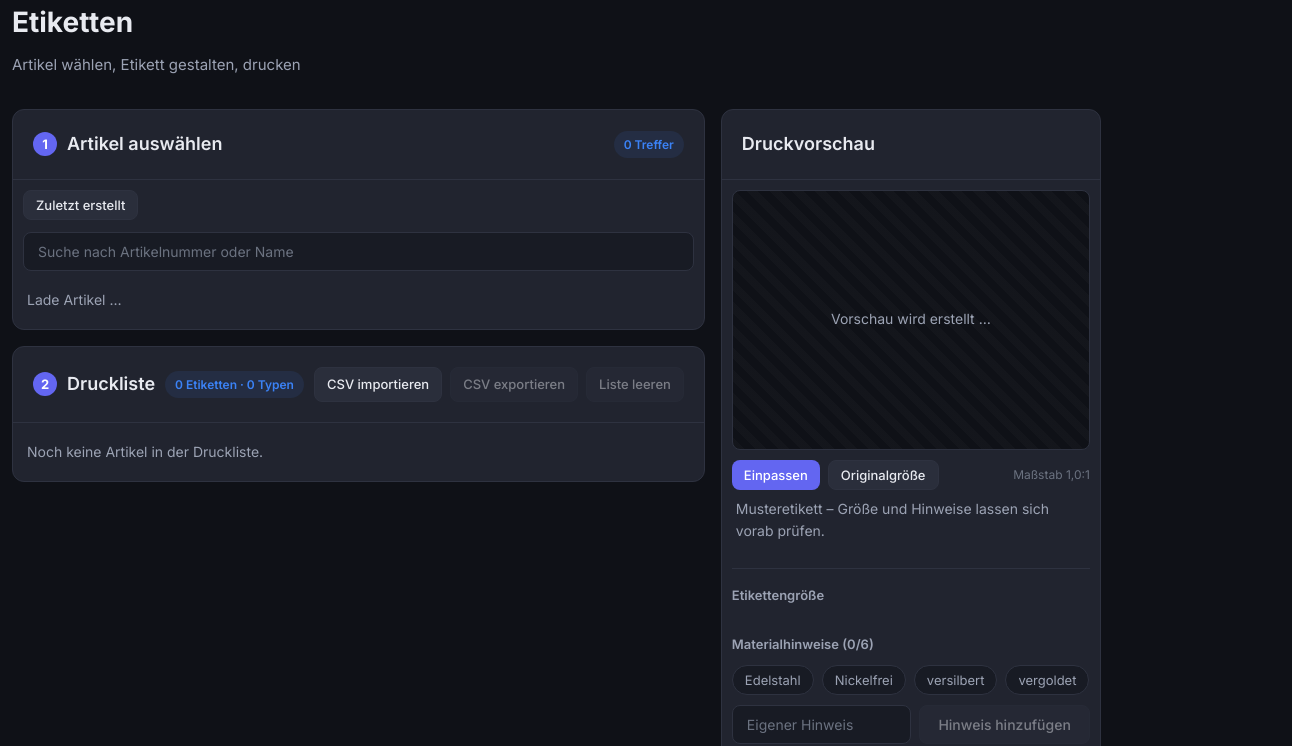
Scenario: Etiketten › Zuletzt erstellt › übernimmt einen Vorschlag erst per Klick mit Menge 1
The width and height of the screenshot is (1292, 746).
What coordinates should you click on to do the following:
click the button "Zuletzt erstellt"
I would click on:
 (81, 205)
Its box is [23,190,138,220].
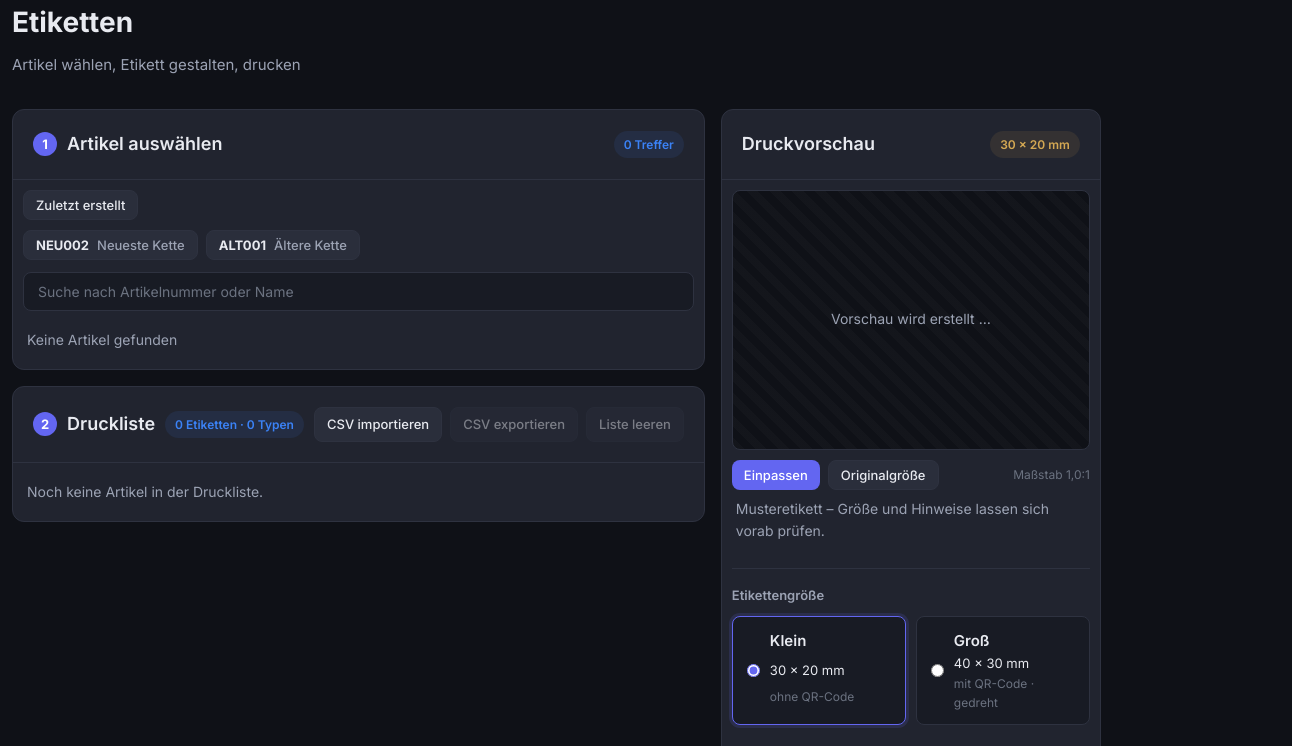
expect the text "Noch keine Artikel in der Druckliste." is shown: met, box [27,483,263,500]
What coordinates should you click on to do the following:
click the button with aria-label "NEU002 übernehmen"
I would click on:
 (110, 245)
Its box is [23,230,198,260].
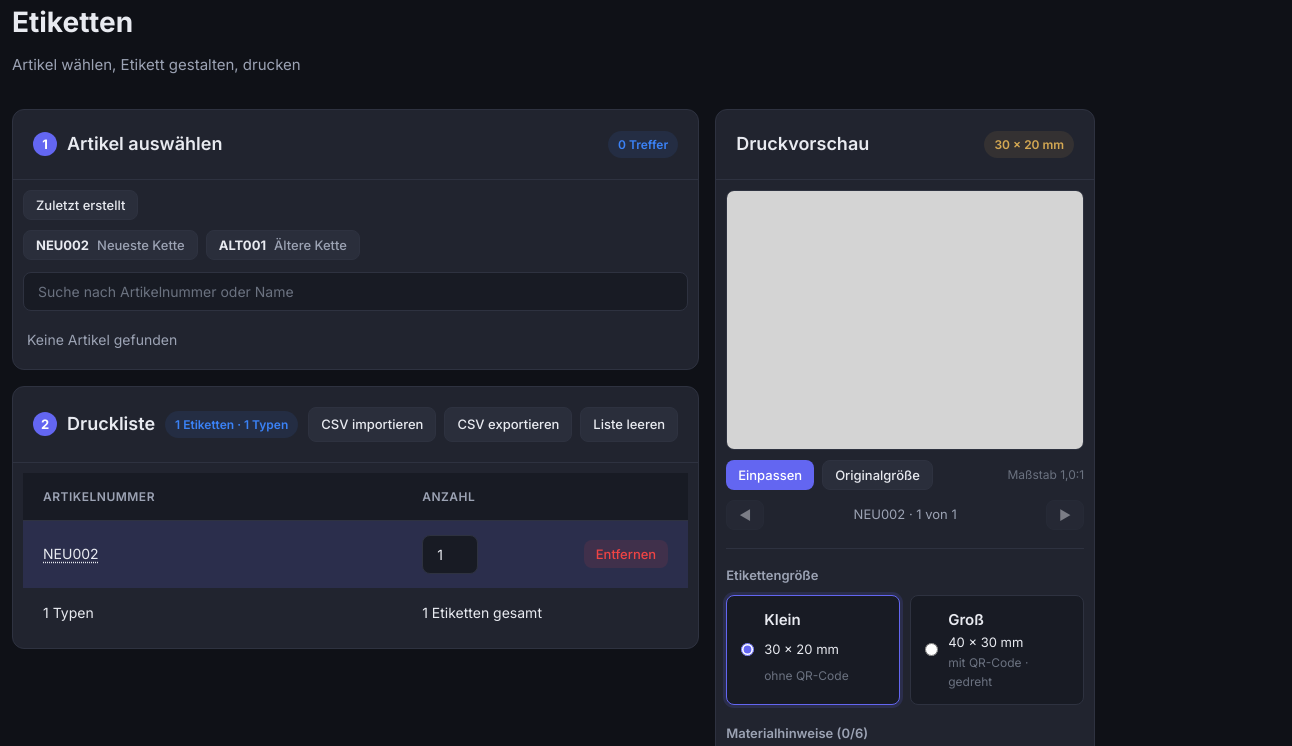
expect the text "1 Etiketten · 1 Typen" is shown: met, box [165,411,298,438]
